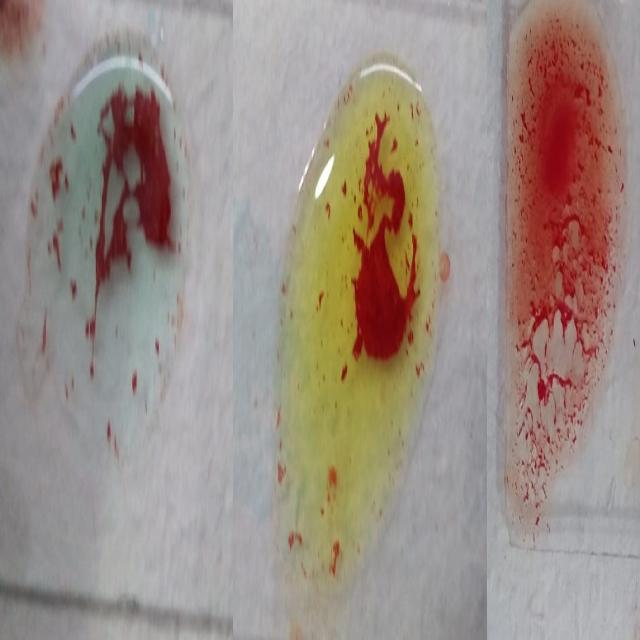A: (23, 22, 195, 489)
B: (276, 53, 442, 610)
D: (506, 1, 622, 536)
